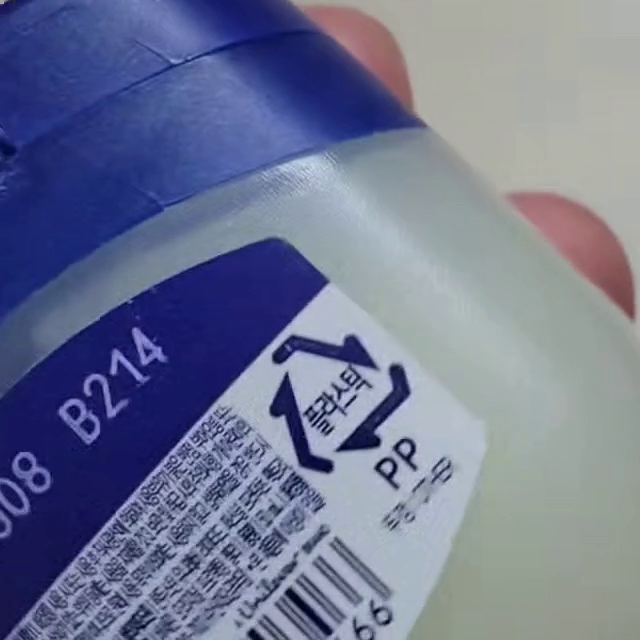Plastic: (269, 332, 412, 474)
